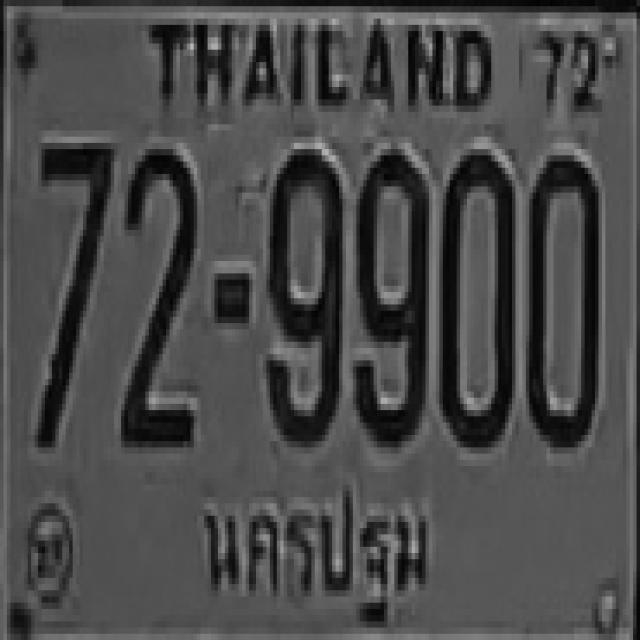0: (436, 149, 512, 441), (526, 149, 598, 441)
2: (118, 143, 194, 441)
7: (34, 137, 110, 441)
9: (263, 143, 339, 441), (353, 143, 425, 441)
NakhonPathom: (193, 472, 437, 636)
